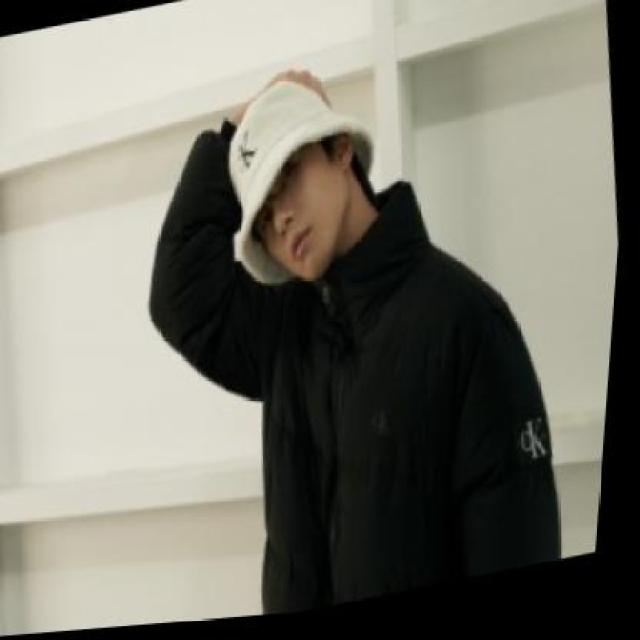hat: (230, 82, 377, 287)
